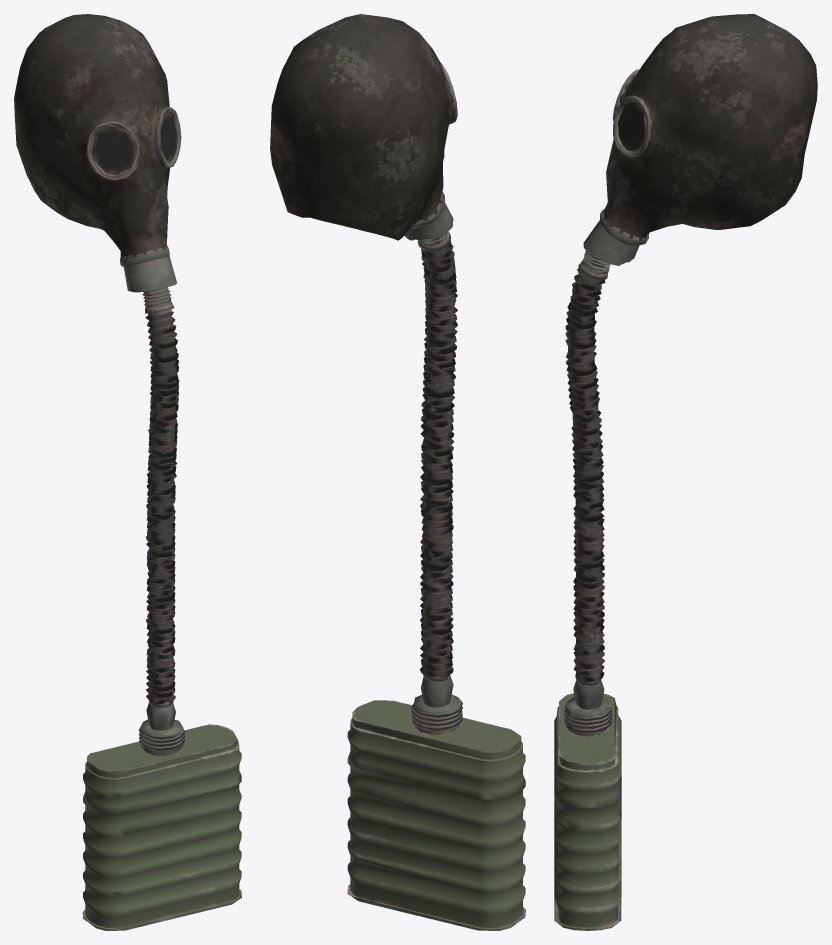
The model's file is gas_mask.glb.
The picture shows the model from 3 angles, left to right: view 1: azimuth 30°, elevation 25°; view 2: azimuth 150°, elevation 25°; view 3: azimuth 270°, elevation 25°; orthographic projection. The views are drawn at different scales.
Visible parts, largest first — view 1: old_gas_mask; view 2: old_gas_mask; view 3: old_gas_mask.
Boxes of the visible parts, <box> form: old_gas_mask: <box>14,14,241,930</box>; old_gas_mask: <box>270,14,525,930</box>; old_gas_mask: <box>554,14,817,930</box>.
Bounding box in the file's own units: 0.2105 × 1.13 × 0.3083.
Materials: 1 (1 with a texture image).
